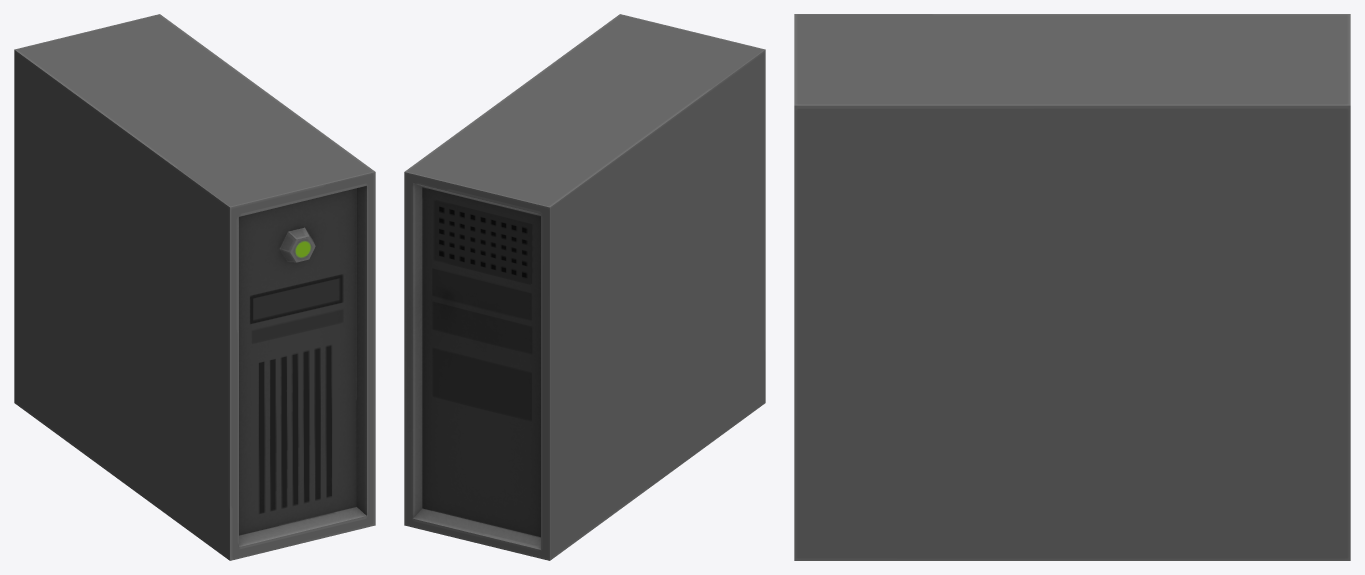
The model's file is TEST_mdl_CPU.fbx.
3 views of the same model, side by side, from view 1: azimuth 30°, elevation 25°; view 2: azimuth 150°, elevation 25°; view 3: azimuth 270°, elevation 25° (orthographic). The views are drawn at different scales.
Parts seen in each view (by area): view 1: Computer:Computer_mesh; view 2: Computer:Computer_mesh; view 3: Computer:Computer_mesh.
Boxes of the visible parts, <box> form: Computer:Computer_mesh: <box>14,14,375,560</box>; Computer:Computer_mesh: <box>404,14,765,560</box>; Computer:Computer_mesh: <box>794,14,1350,560</box>.
Bounding box in the file's own units: 2.26 × 5.25 × 5.81.
Materials: 1 (1 with a texture image).
